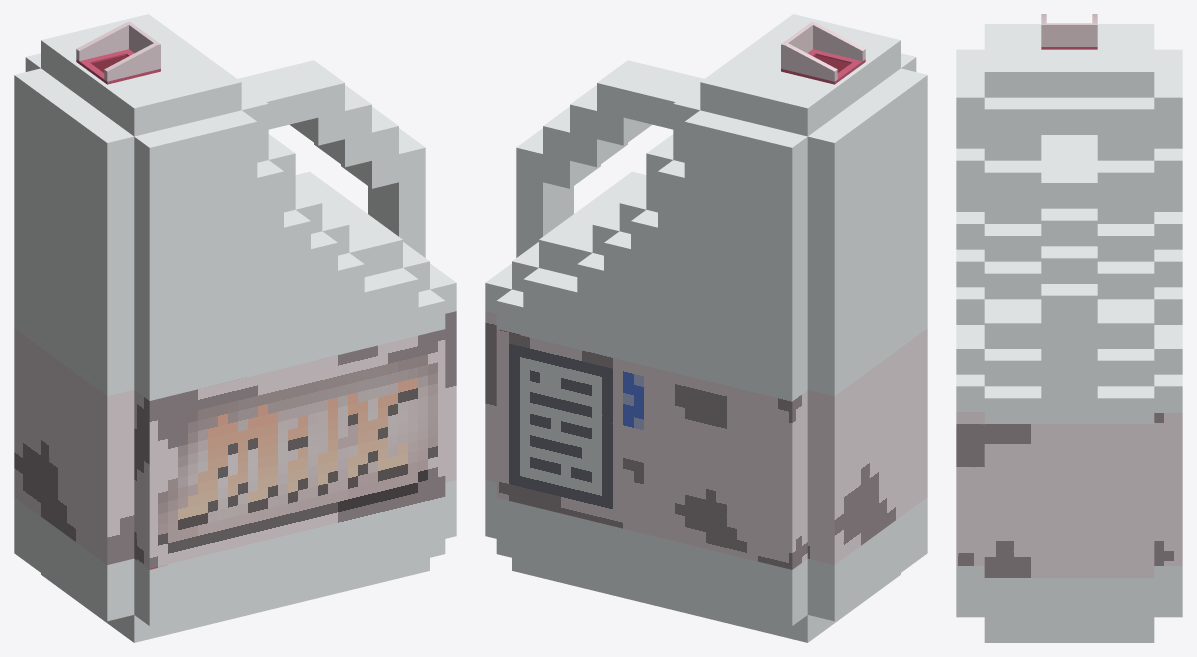
File: MilkCarton.fbx
The picture shows the model from 3 angles, left to right: view 1: azimuth 30°, elevation 25°; view 2: azimuth 150°, elevation 25°; view 3: azimuth 270°, elevation 25°; orthographic projection. The views are drawn at different scales.
Visible parts, largest first — view 1: MilkCarton; view 2: MilkCarton; view 3: MilkCarton.
Boxes of the visible parts, x1,y1,x2,y2 form: MilkCarton: (14, 14, 456, 642); MilkCarton: (485, 14, 927, 642); MilkCarton: (956, 14, 1182, 642).
Size of the model in its own units: 65 by 99.83 by 40.
1 material, 1 textured.
